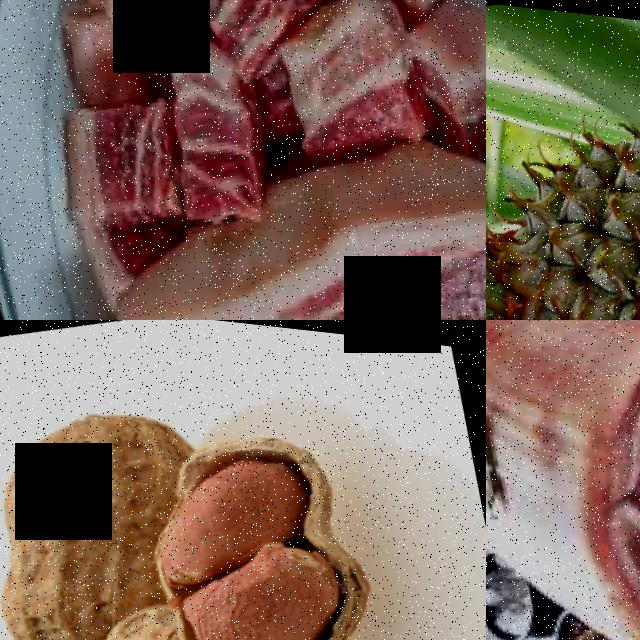peanuts: (0, 380, 176, 640), (139, 423, 330, 579), (173, 518, 380, 640)
pineapple: (486, 137, 640, 320)
pork belly: (87, 91, 486, 320), (505, 320, 640, 640), (146, 18, 288, 234), (254, 0, 445, 159), (44, 76, 196, 250), (133, 0, 328, 79), (391, 0, 486, 160), (52, 0, 212, 77)
